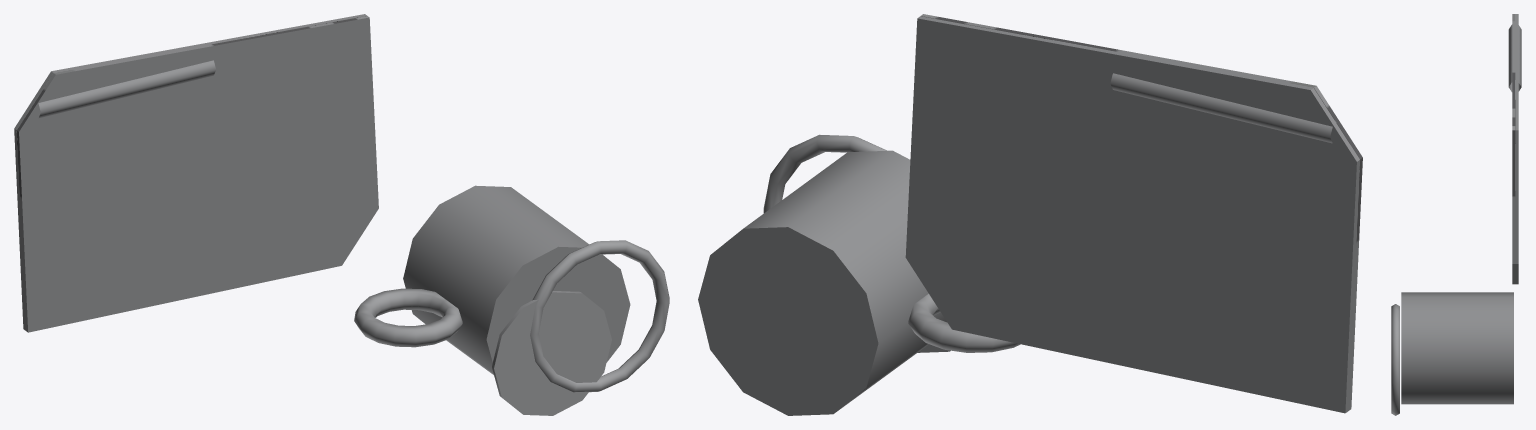
3 renders of one model, left to right at view 1: azimuth 30°, elevation 25°; view 2: azimuth 150°, elevation 25°; view 3: azimuth 270°, elevation 25°, orthographic. The views are drawn at different scales.
Bounding box in the file's own units: 0.7216 × 0.4595 × 0.2137.
